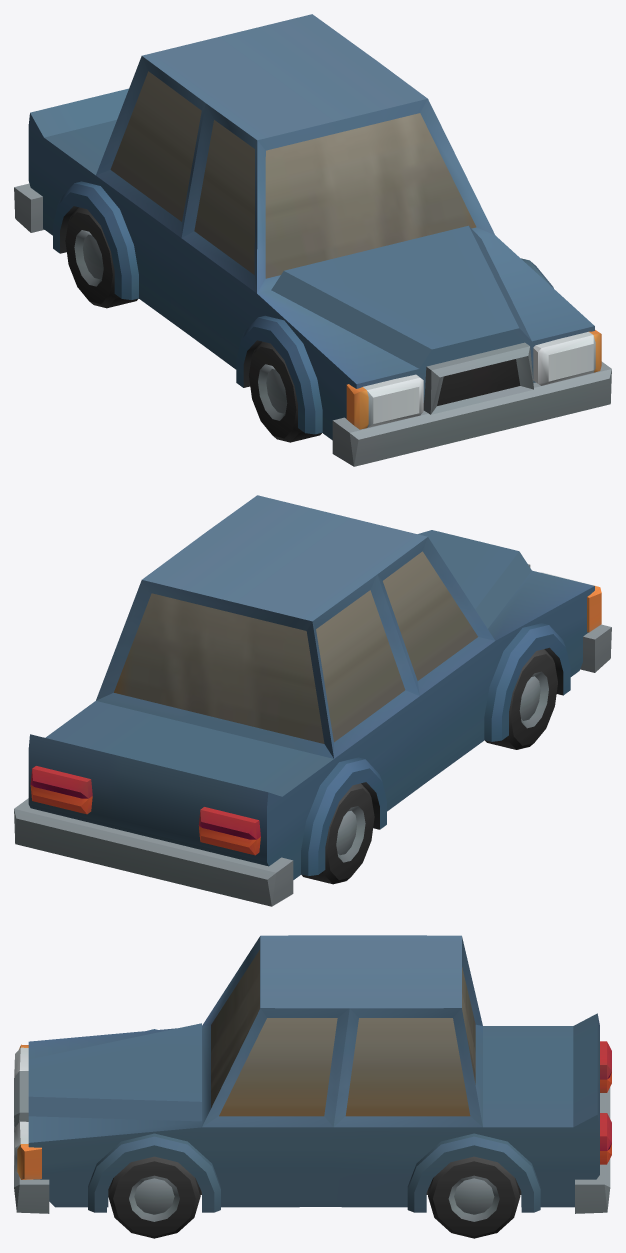
The model's file is car_sedan.glb.
The picture shows the model from 3 angles, top to bottom: view 1: azimuth 30°, elevation 25°; view 2: azimuth 150°, elevation 25°; view 3: azimuth 270°, elevation 25°; orthographic projection. The views are drawn at different scales.
Parts seen in each view (by area): view 1: Cube.13729, car_sedan_wheel_rear_right, car_sedan_wheel_front_right; view 2: Cube.13729, car_sedan_wheel_rear_right, car_sedan_wheel_front_right; view 3: Cube.13729, car_sedan_wheel_front_left, car_sedan_wheel_rear_left.
Part boxes in pixels (x1,y1,x2,y2): Cube.13729: [14, 14, 611, 466]; car_sedan_wheel_rear_right: [65, 207, 138, 308]; car_sedan_wheel_front_right: [249, 341, 321, 442]; Cube.13729: [14, 495, 611, 906]; car_sedan_wheel_rear_right: [301, 783, 374, 884]; car_sedan_wheel_front_right: [485, 649, 557, 749]; Cube.13729: [14, 935, 611, 1213]; car_sedan_wheel_front_left: [108, 1156, 200, 1238]; car_sedan_wheel_rear_left: [428, 1156, 520, 1238].
Size of the model in its own units: 0.4189 by 0.3688 by 0.9381.
1 material, 1 textured.
